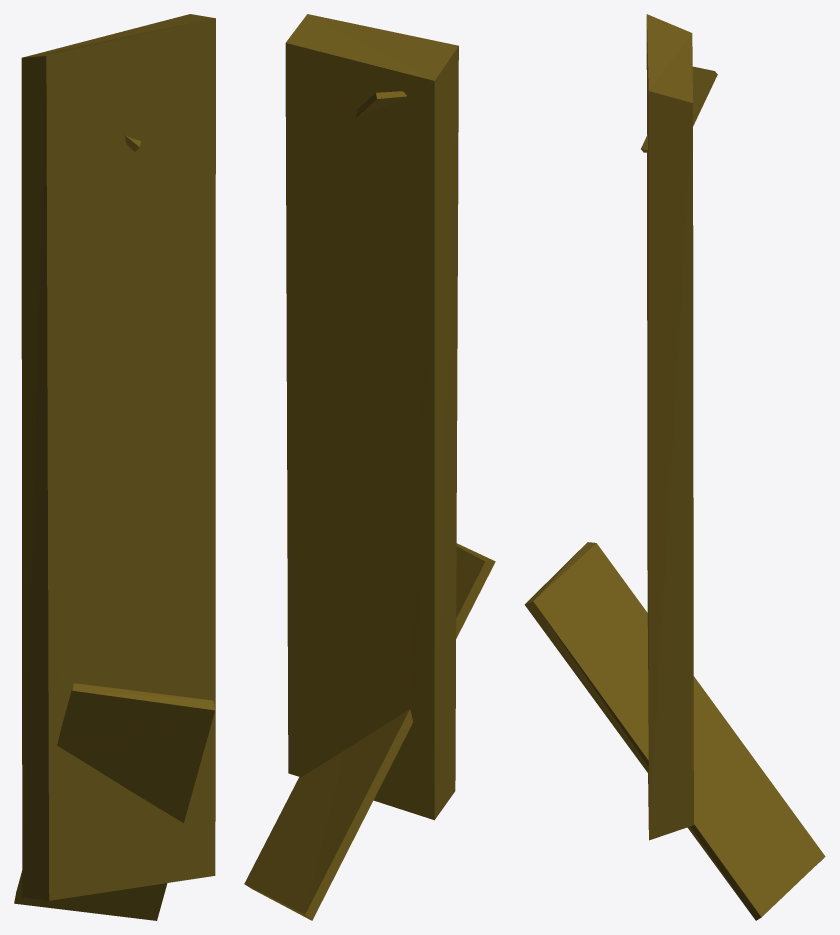
The picture shows the model from 3 angles, left to right: view 1: azimuth 30°, elevation 25°; view 2: azimuth 150°, elevation 25°; view 3: azimuth 270°, elevation 25°; orthographic projection. The views are drawn at different scales.
Parts seen in each view (by area): view 1: 668_Cube.2685; view 2: 668_Cube.2685; view 3: 668_Cube.2685.
Part boxes in pixels (x1=…): 668_Cube.2685: x1=14, y1=14, x2=215, y2=920; 668_Cube.2685: x1=244, y1=14, x2=495, y2=920; 668_Cube.2685: x1=524, y1=14, x2=825, y2=920.
Bounding box in the file's own units: 2.86 × 14 × 4.58.
